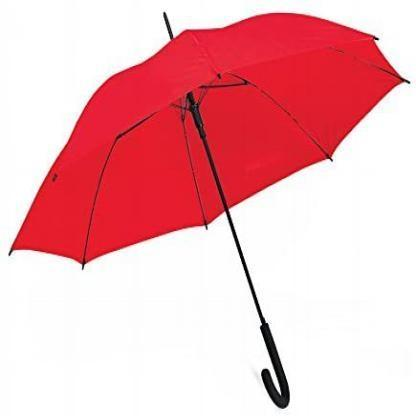Umbrella: (0, 0, 415, 285)
